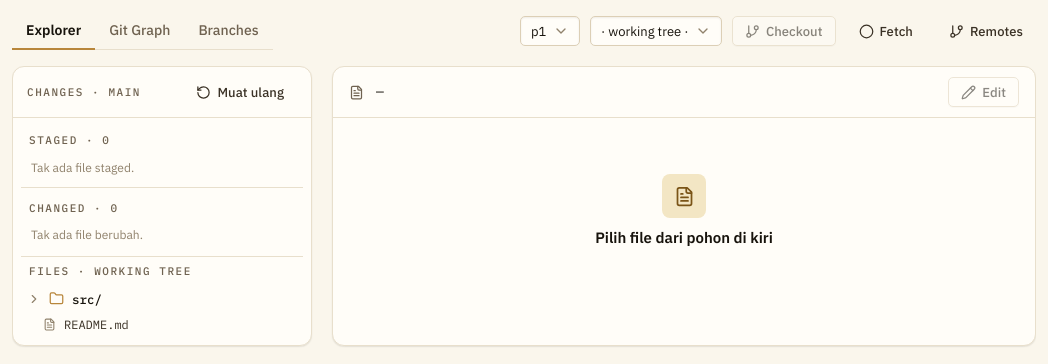
IdeScreen tab Branches (SPEC-360) › tab Branches merender panel branch ter-merge
Step 1. Click the tab "Branches" → click(228, 31), box [184, 12, 273, 50]
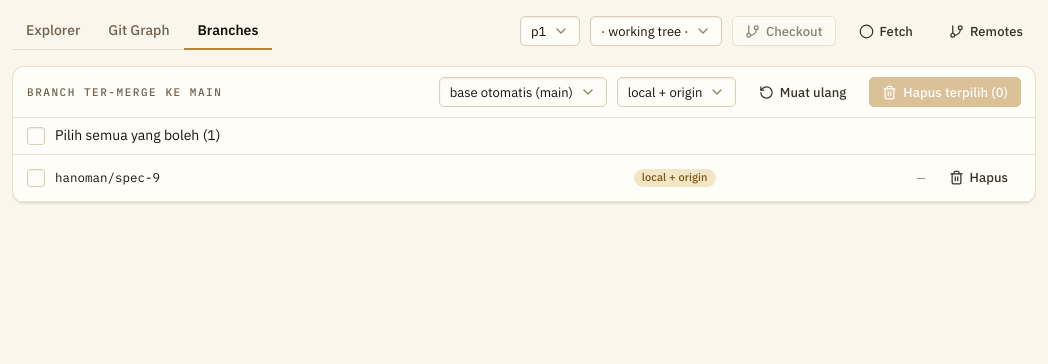
Expected: the text "hanoman/spec-9" is shown, [55, 169, 160, 185]
